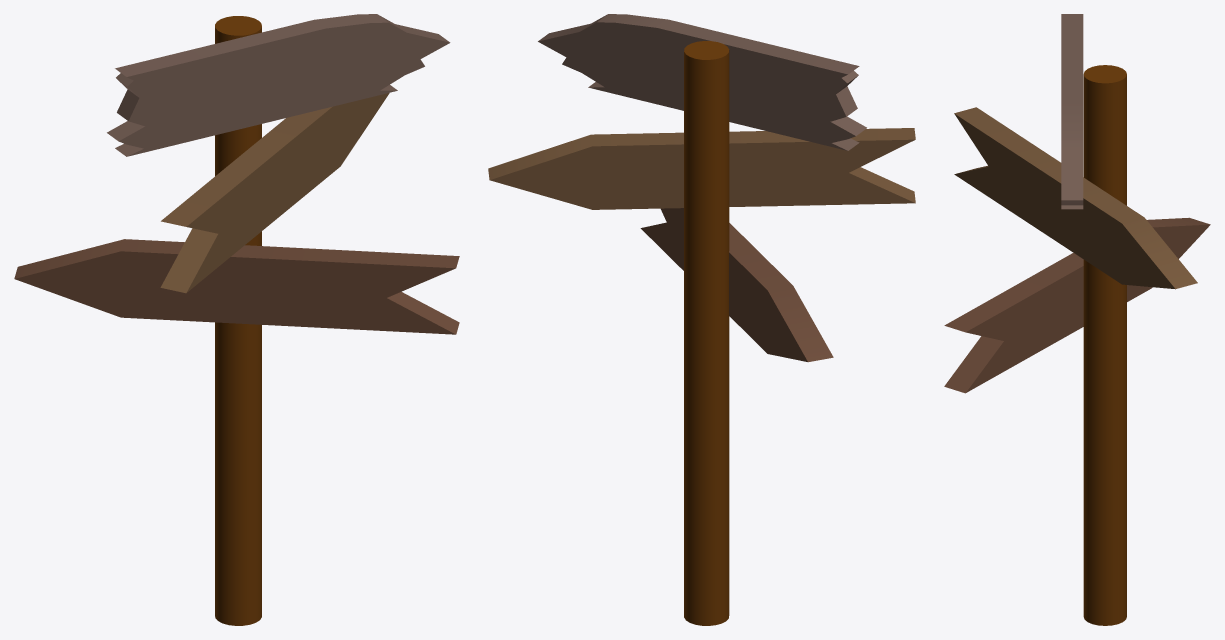
File: Cartel_de_guia.fbx
3 renders of one model, left to right at view 1: azimuth 30°, elevation 25°; view 2: azimuth 150°, elevation 25°; view 3: azimuth 270°, elevation 25°, orthographic. The views are drawn at different scales.
Visible parts, largest first — view 1: pCube3, pCube1, pCylinder1, pCube2; view 2: pCylinder1, pCube2, pCube1, pCube3; view 3: pCylinder1, pCube2, pCube3, pCube1.
Part boxes in pixels (left/top/right/bottom): pCube3: left=14, top=239, right=459, bottom=334; pCube1: left=107, top=14, right=450, bottom=156; pCylinder1: left=215, top=16, right=261, bottom=625; pCube2: left=160, top=93, right=389, bottom=293; pCylinder1: left=684, top=41, right=729, bottom=625; pCube2: left=488, top=128, right=915, bottom=209; pCube1: left=538, top=14, right=866, bottom=150; pCube3: left=640, top=208, right=833, bottom=362; pCylinder1: left=1083, top=65, right=1126, bottom=625; pCube2: left=954, top=107, right=1197, bottom=289; pCube3: left=944, top=217, right=1210, bottom=393; pCube1: left=1061, top=14, right=1083, bottom=209.
Size of the model in its own units: 2.67 by 4.1 by 1.83.
